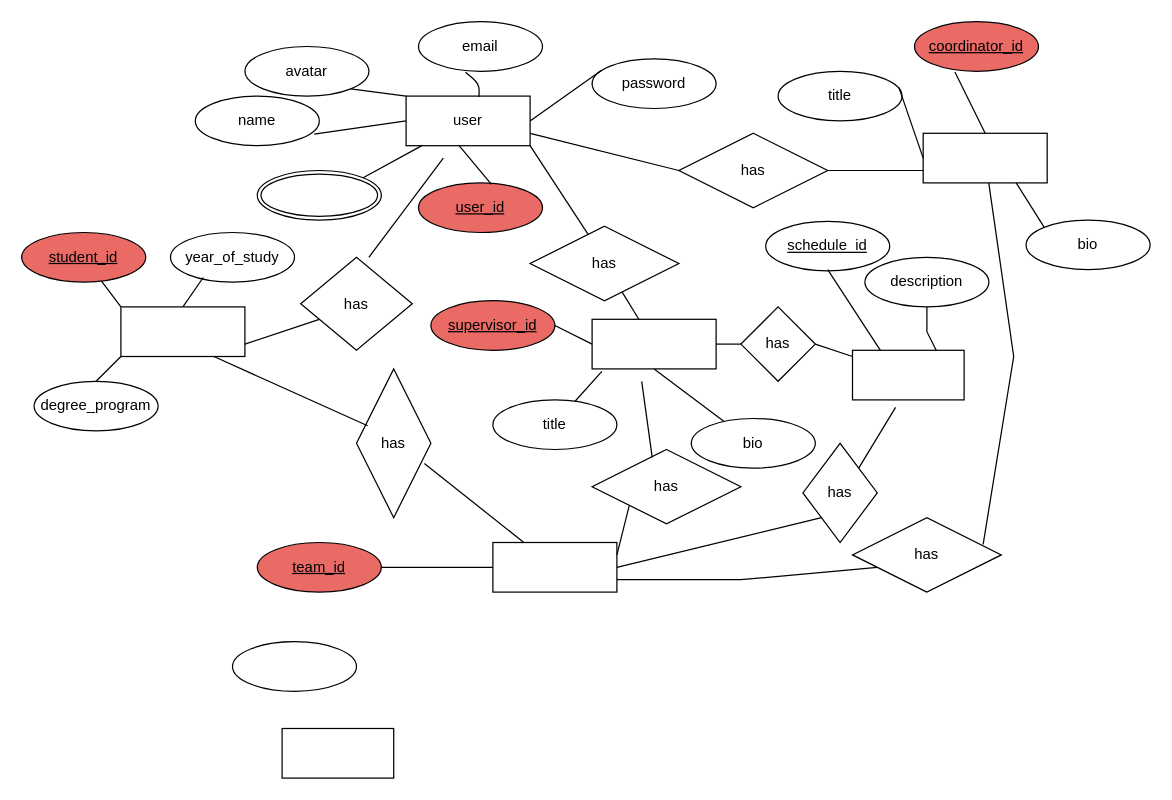
The diagram is 1172 pixels wide and 800 high, and some of its shapes have lost their labels. The centre of each missing label's shape, as x and y in pixels:
"Attribute" belongs at point 293,665.
"coordinator" belongs at point 984,157.
"phone" belongs at point 318,194.
"schedule" belongs at point 907,374.
"segment" belongs at point 337,752.
"student" belongs at point 182,331.
"supervisor" belongs at point 653,343.
"team" belongs at point 554,566.
